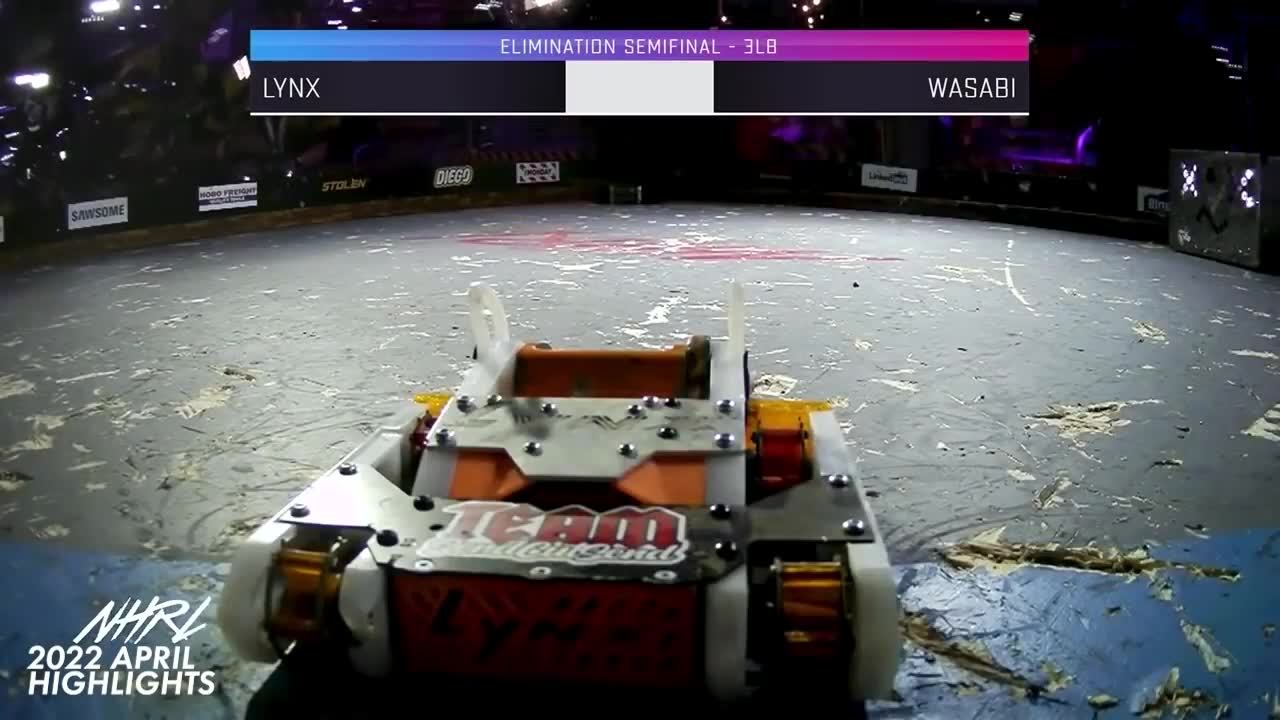combatbot: (221, 278, 902, 720), (593, 181, 656, 206)
housebot: (1164, 150, 1280, 275)
